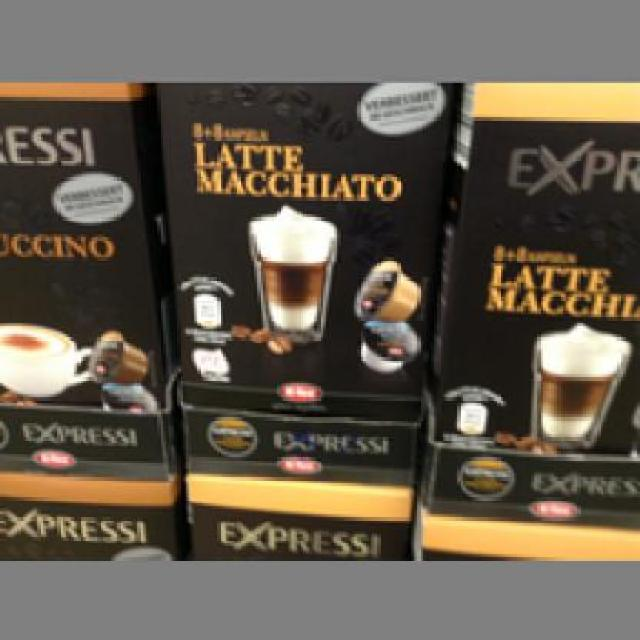Coffee: (152, 77, 458, 410), (432, 79, 638, 452), (0, 77, 166, 412)
